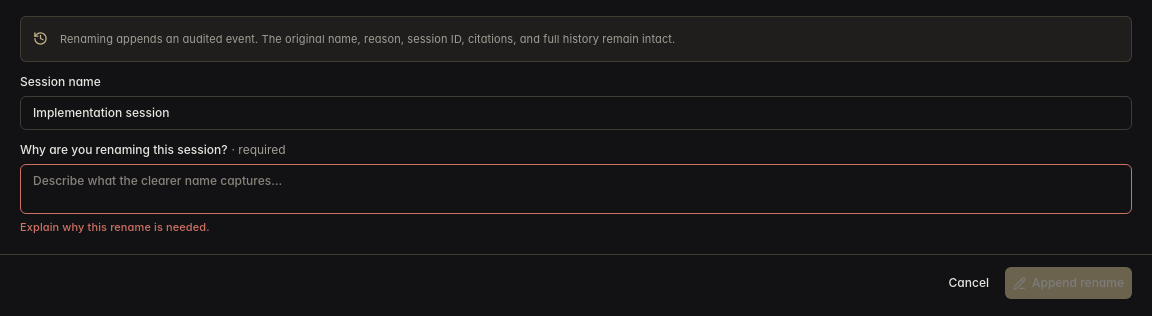
Test: session rename validation › clears errors once a valid audited rename is possible
Replace the text in the field labelled "Session name" with "Release continuity" at (576, 113), box [20, 96, 1132, 130]
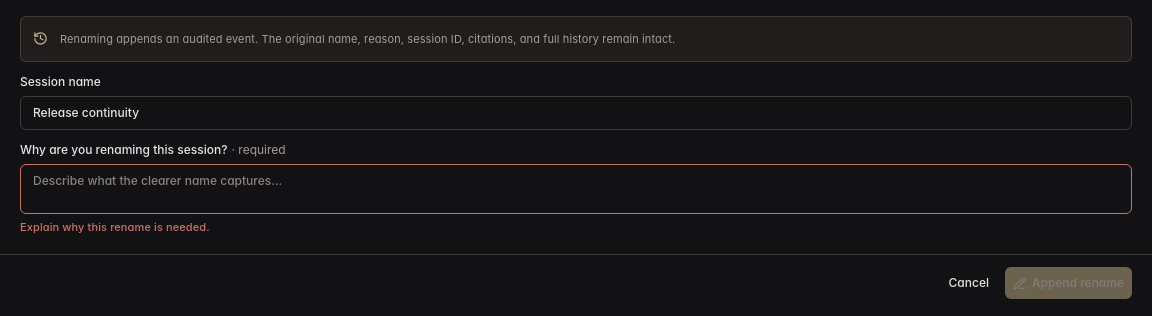
Type "The release is complete." into the text box labelled "Why are you renaming" at (576, 189), box [20, 164, 1132, 214]
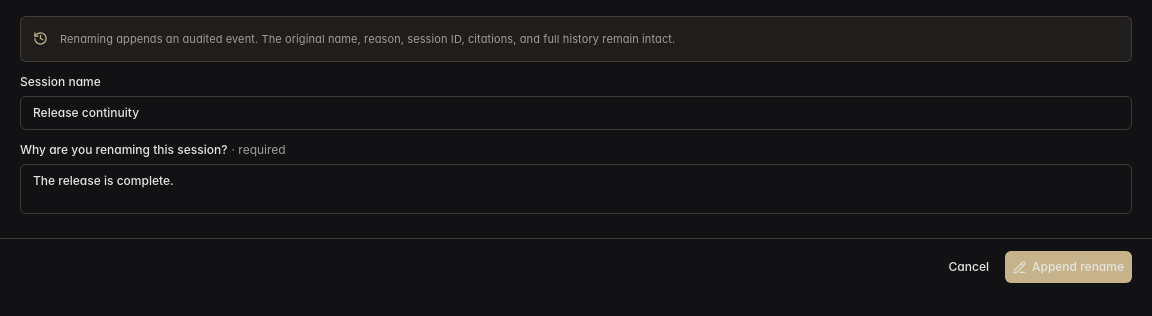
expect the message "Explain why this rename is needed." is gone: met
expect the button "Append rename" is enabled: met, box [1005, 251, 1132, 283]
